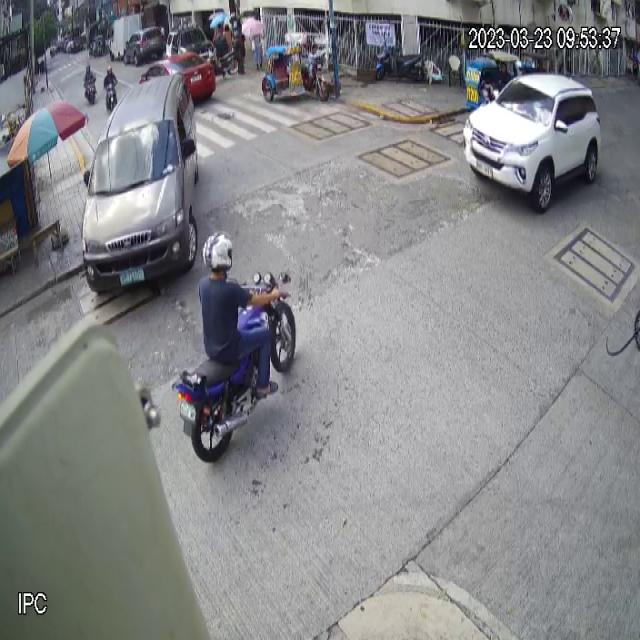Car: (80, 76, 200, 294), (462, 73, 602, 211)
Motorcycle: (172, 270, 297, 461)
Tricycle: (261, 32, 330, 103)
